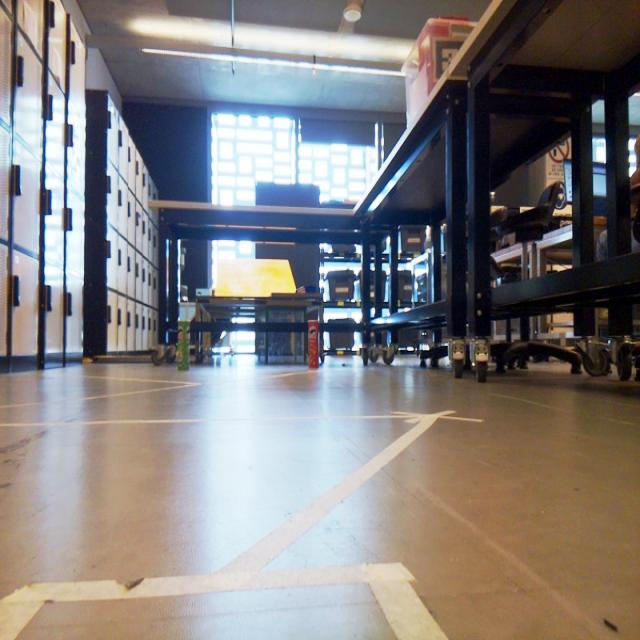greenpringles: (175, 318, 194, 374)
redpringles: (301, 311, 324, 372)
